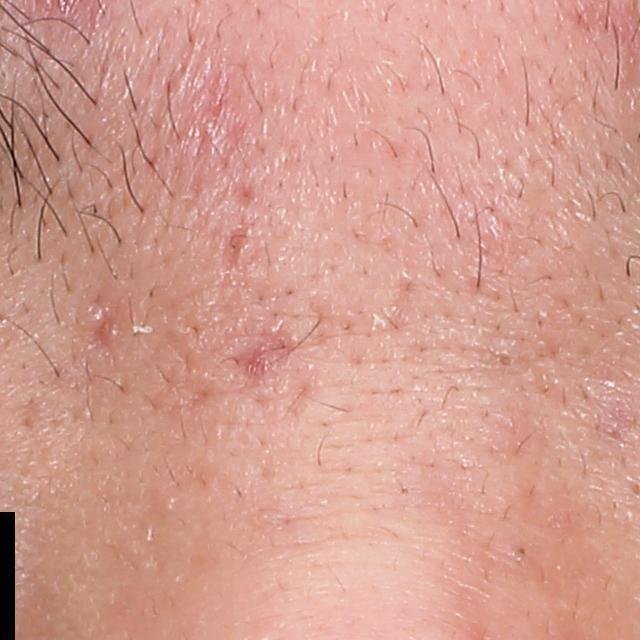comedo: (496, 346, 517, 372), (514, 543, 529, 562)
